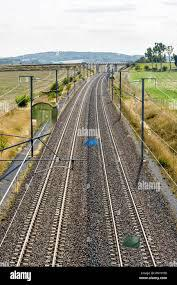Color_steel: (79, 133, 103, 154)
Dust_screen: (121, 233, 142, 251)
